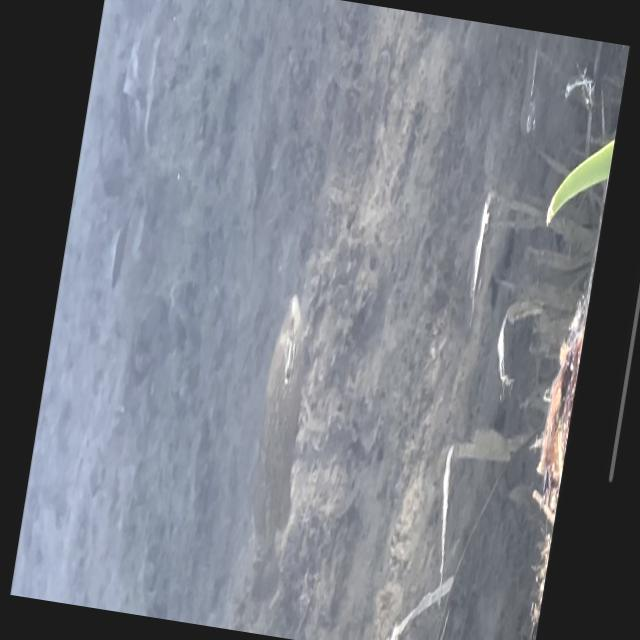Gunes Levregi: (232, 270, 336, 600)
